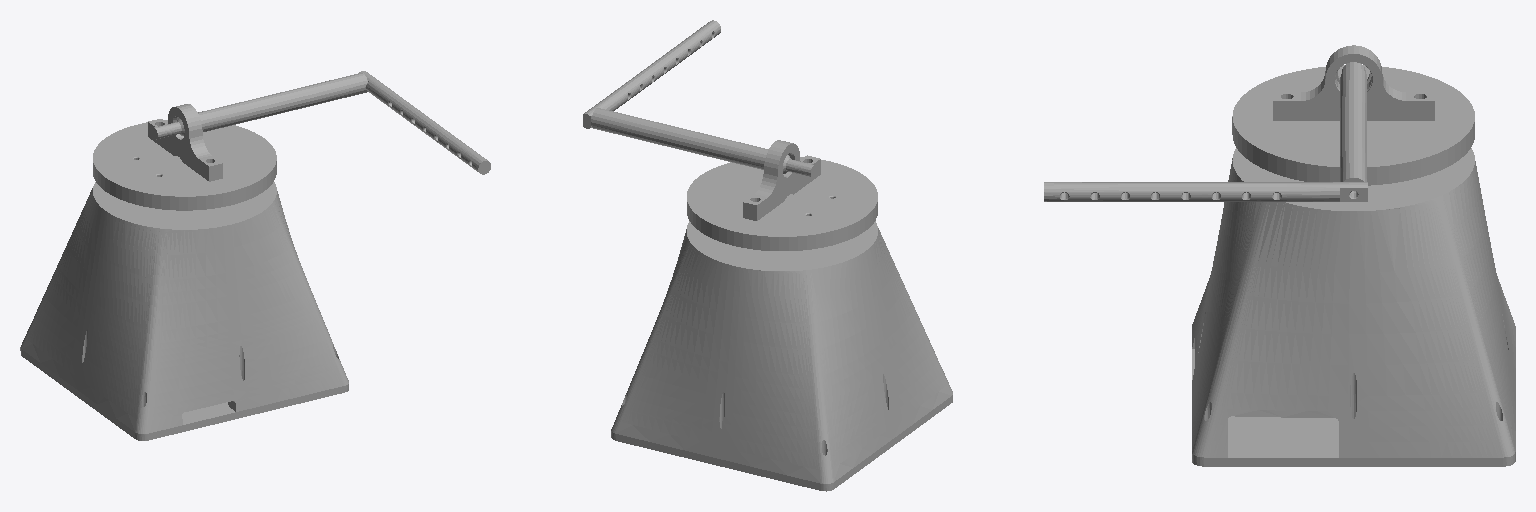
The robot description file, URDF, robot "sim_mount":
<?xml version="1.0" ?>
<robot name="sim_mount">
  <material name="silver">
    <color rgba="0.700 0.700 0.700 1.000"/>
  </material>
  <transmission name="base_to_plate_tran">
    <type>transmission_interface/SimpleTransmission</type>
    <joint name="base_to_plate">
      <hardwareInterface>hardware_interface/EffortJointInterface</hardwareInterface>
    </joint>
    <actuator name="base_to_plate_actr">
      <hardwareInterface>hardware_interface/EffortJointInterface</hardwareInterface>
      <mechanicalReduction>1</mechanicalReduction>
    </actuator>
  </transmission>
  <transmission name="plate_to_shaft_tran">
    <type>transmission_interface/SimpleTransmission</type>
    <joint name="plate_to_shaft">
      <hardwareInterface>hardware_interface/EffortJointInterface</hardwareInterface>
    </joint>
    <actuator name="plate_to_shaft_actr">
      <hardwareInterface>hardware_interface/EffortJointInterface</hardwareInterface>
      <mechanicalReduction>1</mechanicalReduction>
    </actuator>
  </transmission>
  <gazebo>
    <plugin filename="libgazebo_ros_control.so" name="control"/>
  </gazebo>
  <gazebo reference="base_link">
    <material>Gazebo/Silver</material>
    <mu1>0.2</mu1><mu2>0.2</mu2>
    <self_collide>true</self_collide>
    <gravity>true</gravity>
  </gazebo>
  <gazebo reference="plate_1">
    <material>Gazebo/Silver</material>
    <mu1>0.2</mu1><mu2>0.2</mu2>
    <self_collide>true</self_collide>
  </gazebo>
  <gazebo reference="main_shaft_1">
    <material>Gazebo/Silver</material>
    <mu1>0.2</mu1><mu2>0.2</mu2>
    <self_collide>true</self_collide>
  </gazebo>

  <link name="base_link">
    <inertial>
      <origin rpy="0 0 0" xyz="0.0 0.0 0.0"/>
      <mass value="1.009146571933961"/>
      <inertia ixx="0.004215" ixy="-2.7e-05" ixz="-4.1e-05" iyy="0.00418" iyz="3.9e-05" izz="0.004598"/>
    </inertial>
    <visual>
      <origin rpy="0 0 0" xyz="0 0 0"/>
      <geometry><mesh filename="sim_mount_description/meshes/base_link.stl" scale="0.001 0.001 0.001"/></geometry>
      <material name="silver"/>
    </visual>
    <collision>
      <origin rpy="0 0 0" xyz="0 0 0"/>
      <geometry><mesh filename="sim_mount_description/meshes/base_link.stl" scale="0.001 0.001 0.001"/></geometry>
    </collision>
  </link>

  <link name="plate_1">
    <inertial>
      <origin rpy="0 0 0" xyz="6.43965911757172e-05 0.051762363407853555 0.14931650889172735"/>
      <mass value="0.1702050528268957"/>
      <inertia ixx="0.000143" ixy="-0.0" ixz="-0.0" iyy="0.000137" iyz="0.0" izz="0.000261"/>
    </inertial>
    <visual>
      <origin rpy="0 0 0" xyz="0.0 0.051789 0.056764"/>
      <geometry><mesh filename="sim_mount_description/meshes/plate_1.stl" scale="0.001 0.001 0.001"/></geometry>
      <material name="silver"/>
    </visual>
    <collision>
      <origin rpy="0 0 0" xyz="0.0 0.051789 0.056764"/>
      <geometry><mesh filename="sim_mount_description/meshes/plate_1.stl" scale="0.001 0.001 0.001"/></geometry>
    </collision>
  </link>

  <link name="main_shaft_1">
    <inertial>
      <origin rpy="0 0 0" xyz="0.08302045888937093 0.09282474244214037 0.1764404946383836"/>
      <mass value="0.03877307343143694"/>
      <inertia ixx="7.9e-05" ixy="5.1e-05" ixz="-0.0" iyy="9.6e-05" iyz="0.0" izz="0.000175"/>
    </inertial>
    <visual>
      <origin rpy="0 0 0" xyz="-0.0056 0.119753 0.056714"/>
      <geometry><mesh filename="sim_mount_description/meshes/main_shaft_1.stl" scale="0.001 0.001 0.001"/></geometry>
      <material name="silver"/>
    </visual>
    <collision>
      <origin rpy="0 0 0" xyz="-0.0056 0.119753 0.056714"/>
      <geometry><mesh filename="sim_mount_description/meshes/main_shaft_1.stl" scale="0.001 0.001 0.001"/></geometry>
    </collision>
  </link>

  <joint name="base_to_plate" type="continuous">
    <origin rpy="0 0 0" xyz="0.0 -0.051789 -0.056764"/>
    <parent link="base_link"/>
    <child link="plate_1"/>
    <axis xyz="0.0 0.0 1.0"/>
  </joint>
  <joint name="plate_to_shaft" type="continuous">
    <origin rpy="0 0 0" xyz="0.0056 -0.067964 5e-05"/>
    <parent link="plate_1"/>
    <child link="main_shaft_1"/>
    <axis xyz="-1.0 -0.0 -0.0"/>
  </joint>
</robot>

--- Render facts (derived) ---
3 views of the same robot in one strip: view 1: azimuth 30°, elevation 25°; view 2: azimuth 150°, elevation 25°; view 3: azimuth 270°, elevation 25° (orthographic).
Model sim_mount with 3 links and 2 joints (2 continuous), rooted at base_link, posed every joint at zero.
Visible links, largest first — view 1: base_link, plate_1, main_shaft_1; view 2: base_link, plate_1, main_shaft_1; view 3: base_link, plate_1, main_shaft_1.
Boxes of the visible links, left/top/right/bottom form: base_link: left=20, top=182, right=348, bottom=440; plate_1: left=93, top=104, right=276, bottom=210; main_shaft_1: left=152, top=71, right=490, bottom=174; base_link: left=611, top=221, right=952, bottom=491; plate_1: left=687, top=140, right=877, bottom=250; main_shaft_1: left=583, top=20, right=816, bottom=177; base_link: left=1192, top=148, right=1515, bottom=466; plate_1: left=1232, top=45, right=1474, bottom=185; main_shaft_1: left=1044, top=62, right=1367, bottom=201.
Bounding box of the posed robot: 0.2224 × 0.233 × 0.1905 m (x, y, z).
Meshes: 3 distinct files referenced, 3 mesh visuals loaded (3 binary STL).
